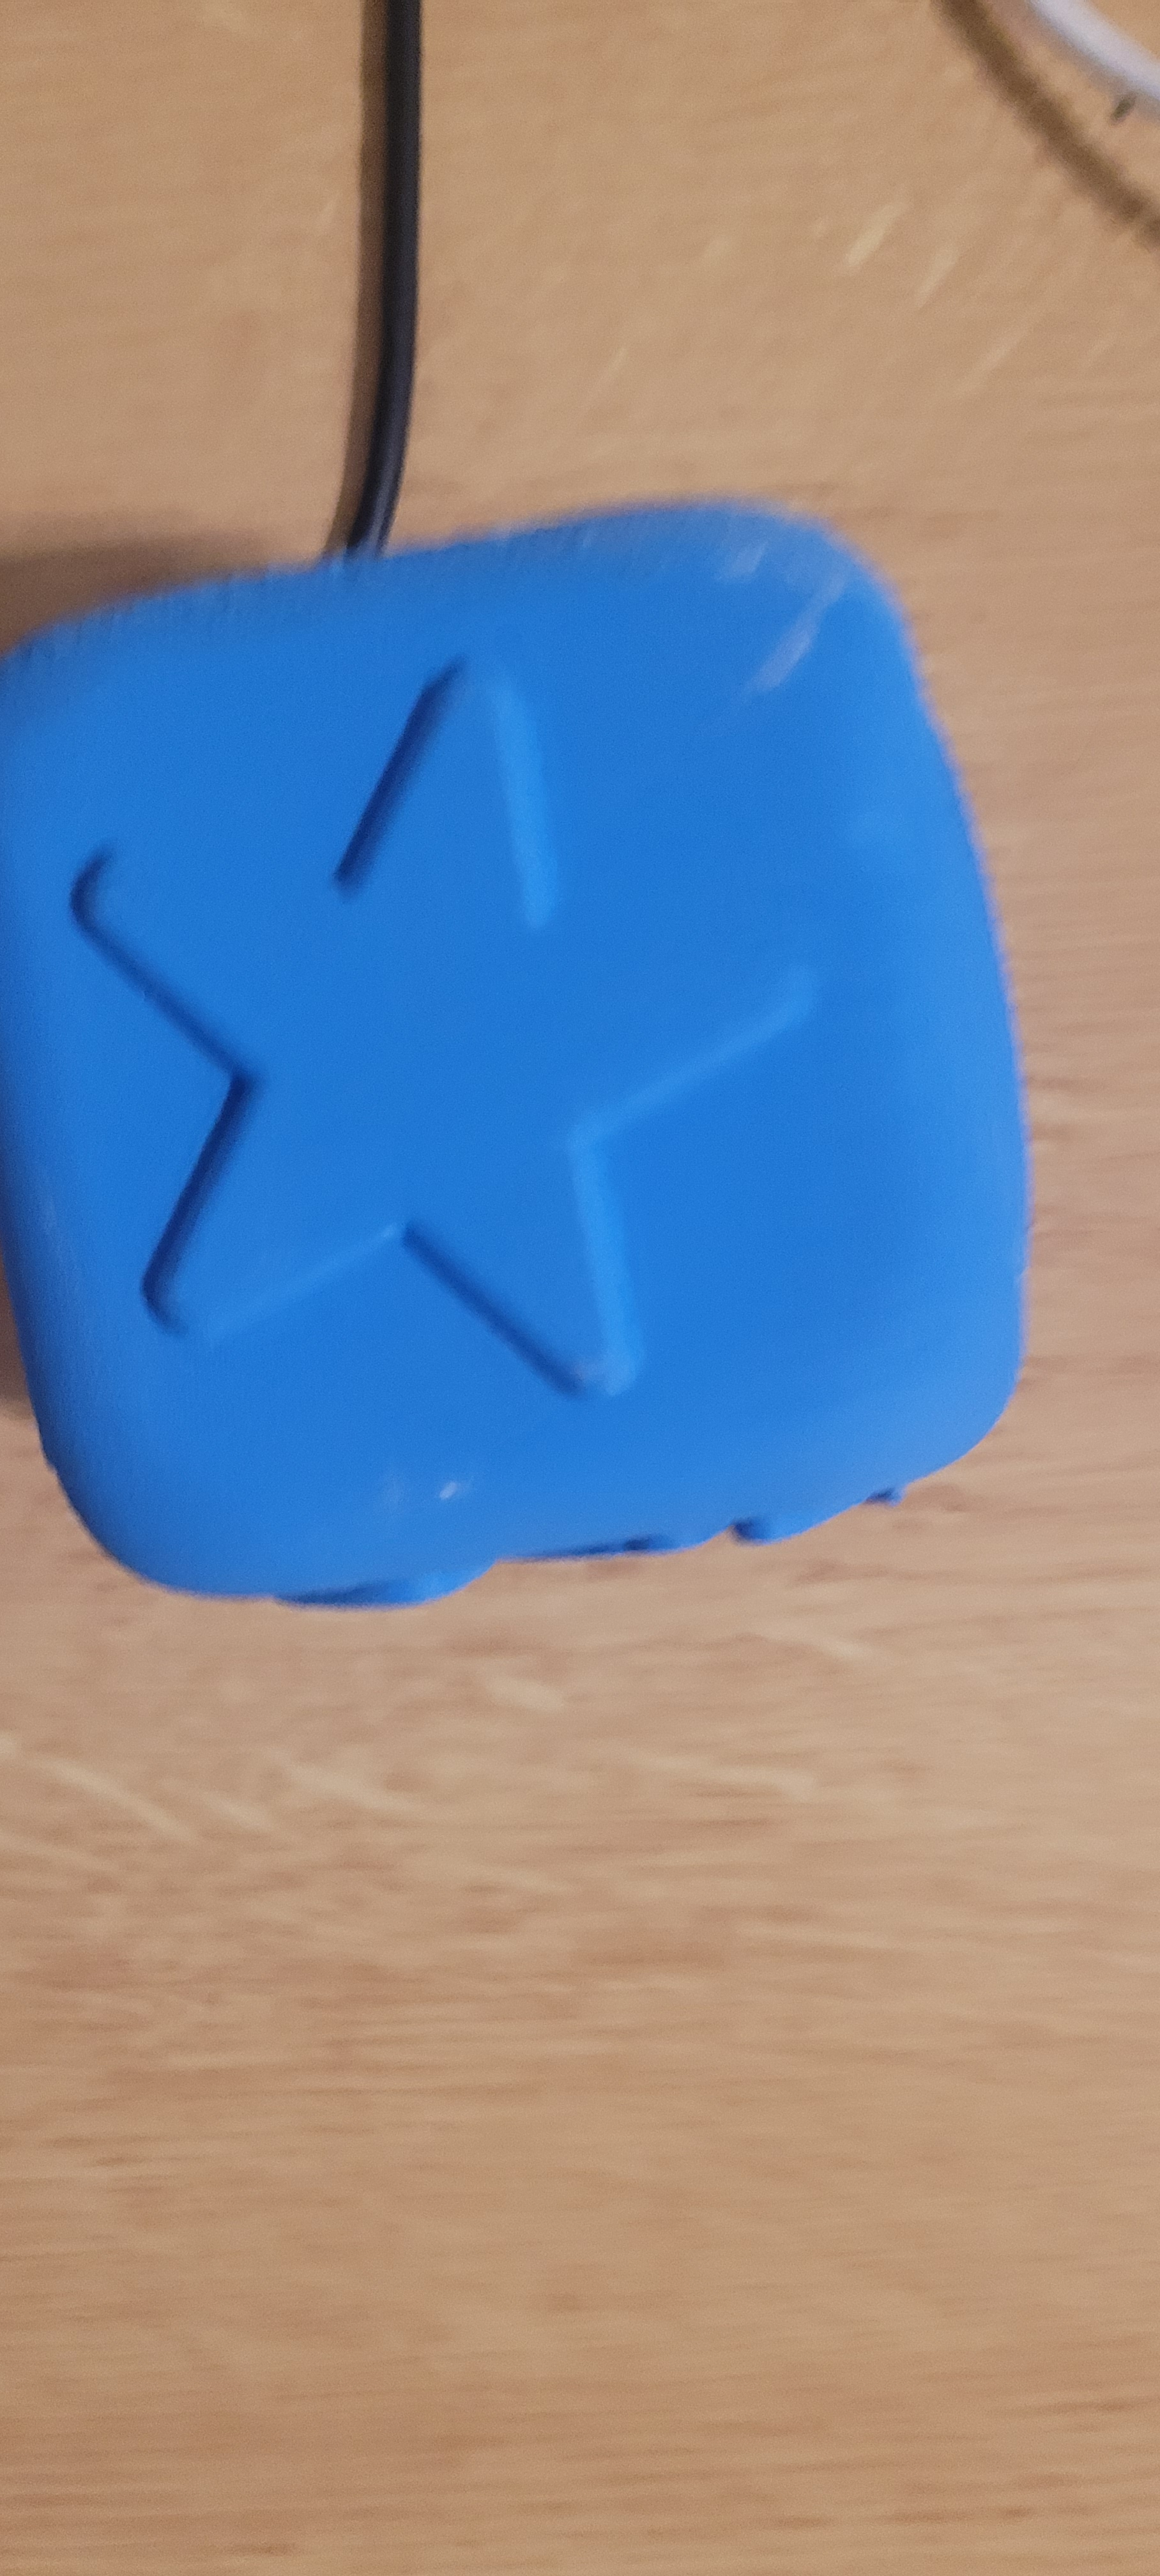Star: (26, 682, 946, 1383)
